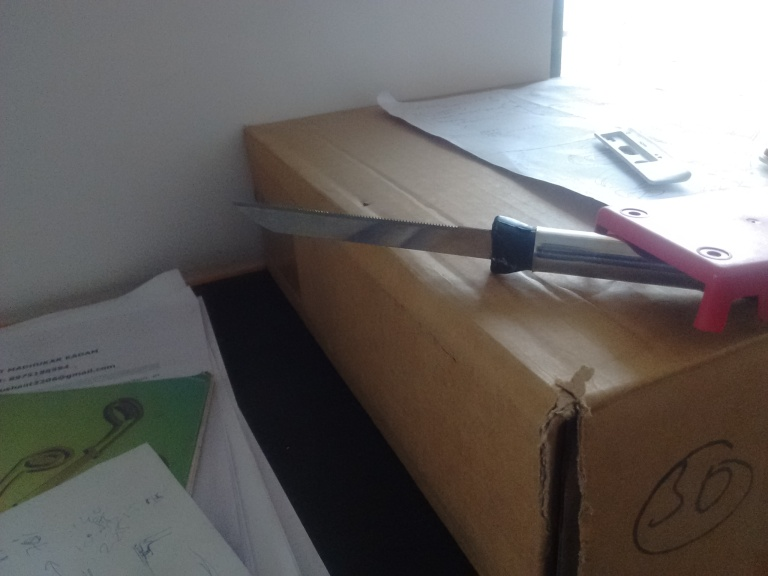knife: (231, 197, 595, 294)
